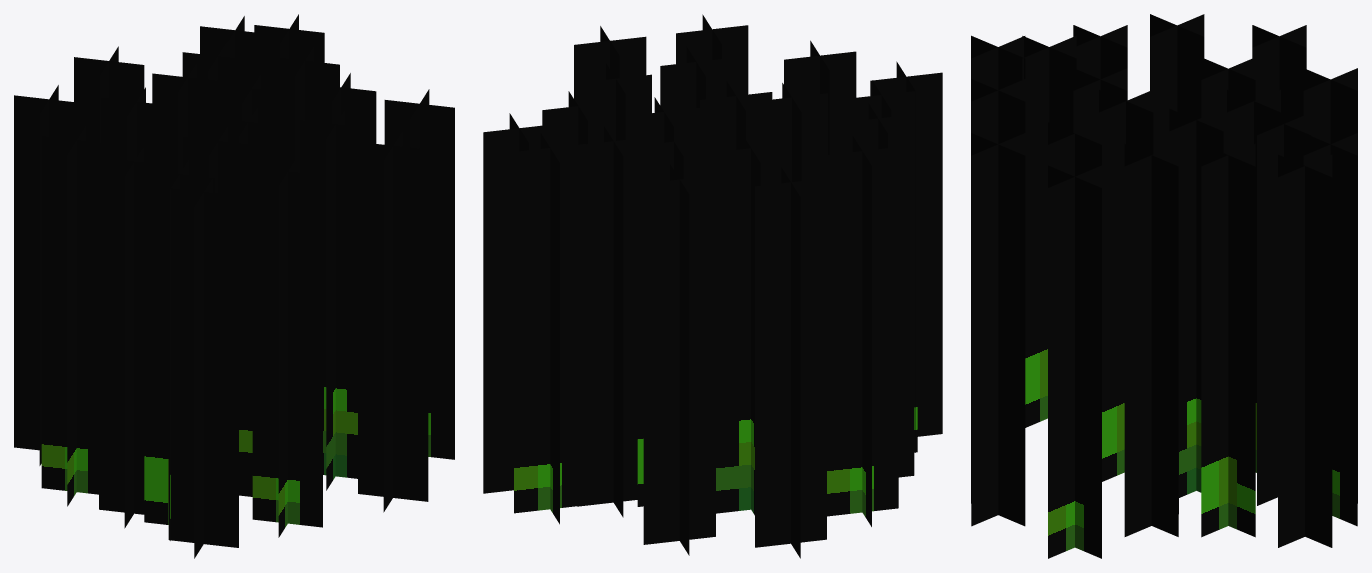
Rendered from block_plant_wheat.gltf.
3 renders of one model, left to right at view 1: azimuth 30°, elevation 25°; view 2: azimuth 150°, elevation 25°; view 3: azimuth 270°, elevation 25°, orthographic. The views are drawn at different scales.
Parts seen in each view (by area): view 1: Stem1 (×20), Stem2 (×10); view 2: Stem2 (×20), Stem1 (×8); view 3: Stem1 (×20), Stem2 (×20).
Part boxes in pixels (x1,y1,x2,y2): Stem1 (×20): (14,25,454,547); Stem2 (×10): (39,46,402,558); Stem2 (×20): (483,25,942,547); Stem1 (×8): (540,63,871,558); Stem1 (×20): (971,14,1357,558); Stem2 (×20): (971,14,1357,558).
Bounding box in the file's own units: 1.01 × 1 × 0.9452.
Materials: 1 (1 with a texture image).
